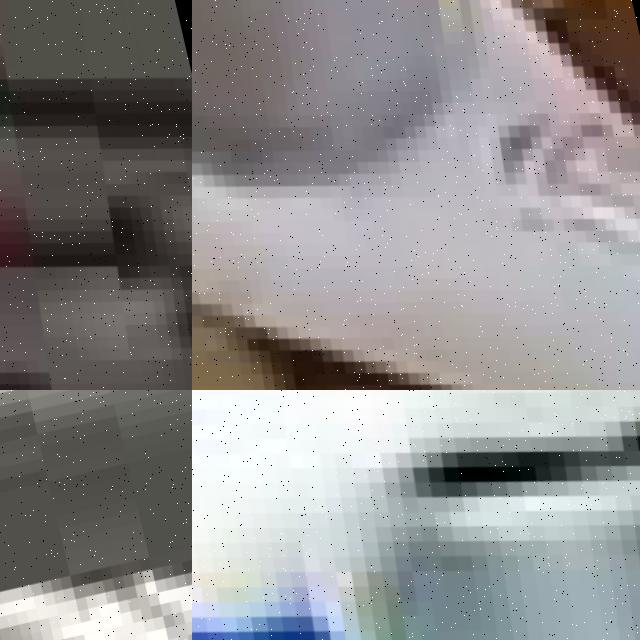0: (0, 0, 192, 390)
drone: (192, 0, 640, 390), (192, 390, 640, 640)
